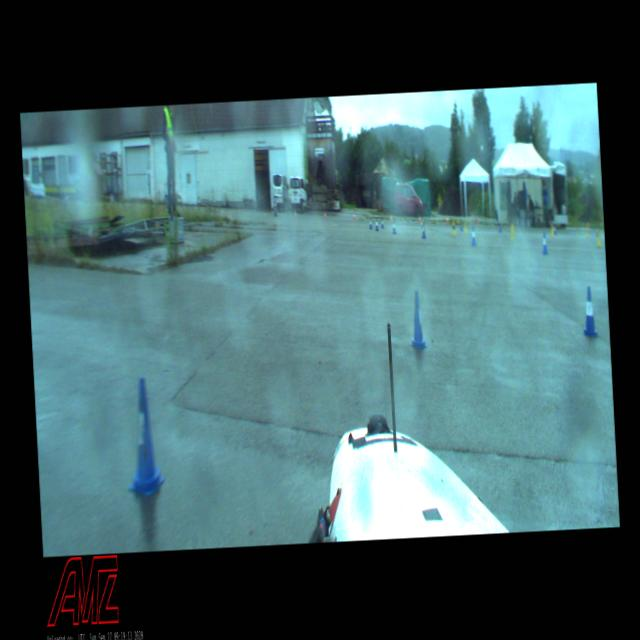blue_cone: (123, 378, 166, 498), (407, 291, 426, 349), (581, 286, 598, 338), (542, 233, 548, 253), (471, 226, 476, 246), (421, 222, 426, 238), (392, 220, 396, 233), (368, 218, 372, 230), (375, 219, 378, 231), (381, 218, 384, 228), (554, 224, 556, 234)
orange_cone: (474, 213, 478, 224), (418, 214, 422, 222), (324, 210, 327, 220), (389, 214, 392, 222), (295, 209, 297, 219), (354, 212, 356, 221), (446, 215, 448, 224)
yellow_cone: (596, 232, 602, 248), (510, 226, 514, 240), (452, 222, 456, 234), (585, 225, 589, 237), (550, 223, 554, 234), (464, 222, 466, 232)
